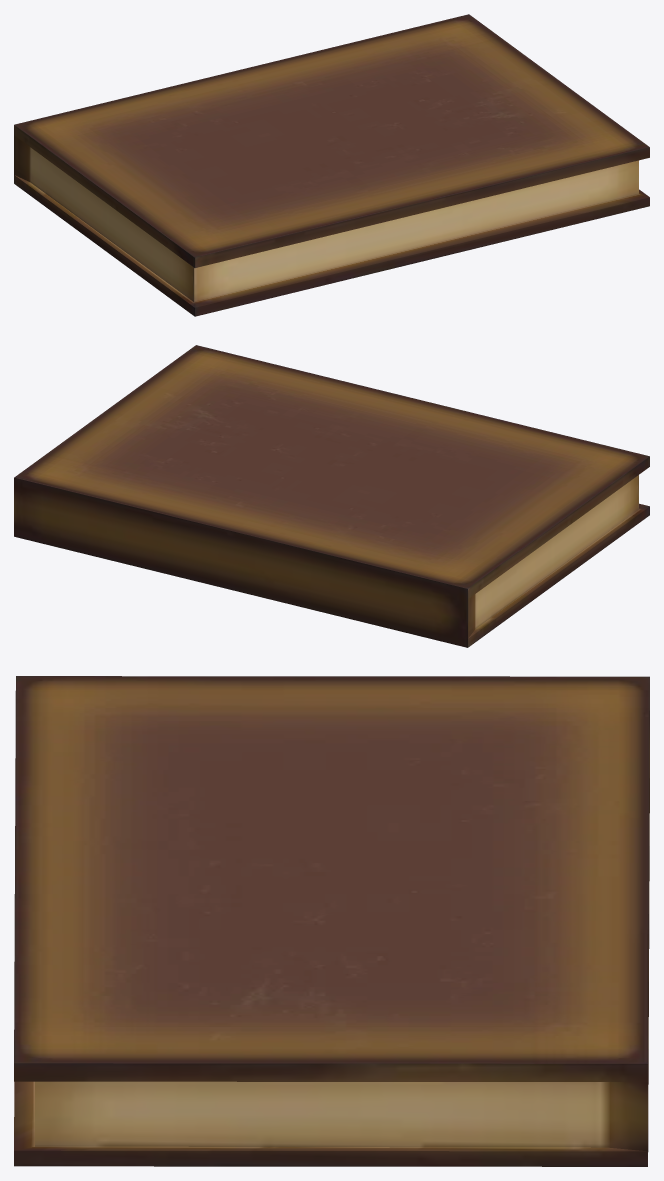
File: book.glb
The picture shows the model from 3 angles, top to bottom: view 1: azimuth 30°, elevation 25°; view 2: azimuth 150°, elevation 25°; view 3: azimuth 270°, elevation 25°; orthographic projection. The views are drawn at different scales.
Parts seen in each view (by area): view 1: Book; view 2: Book; view 3: Book.
Boxes of the visible parts, bbox=[...] form: Book: bbox=[14, 14, 649, 316]; Book: bbox=[14, 345, 649, 647]; Book: bbox=[14, 676, 649, 1166].
Size of the model in its own units: 0.3438 by 0.0426 by 0.2383.
1 material, 1 textured.
